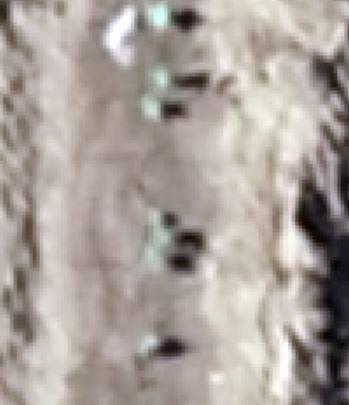cotton: (151, 4, 170, 26), (143, 99, 162, 119), (147, 250, 167, 265), (155, 230, 174, 243), (156, 68, 170, 85), (145, 337, 158, 349)
